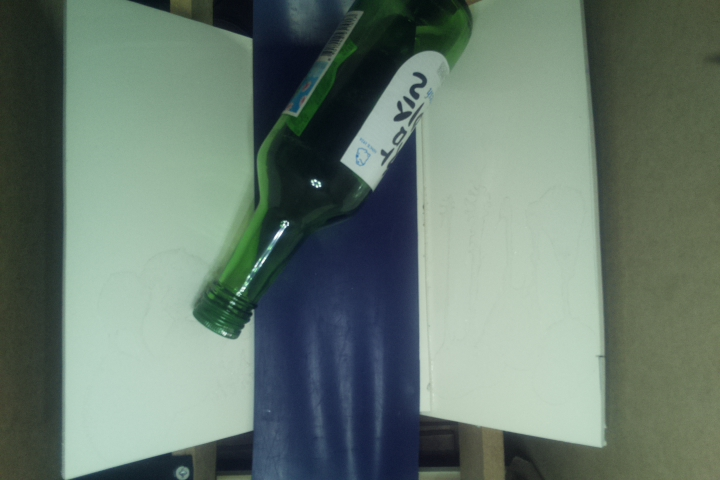soju: (192, 1, 475, 341)
